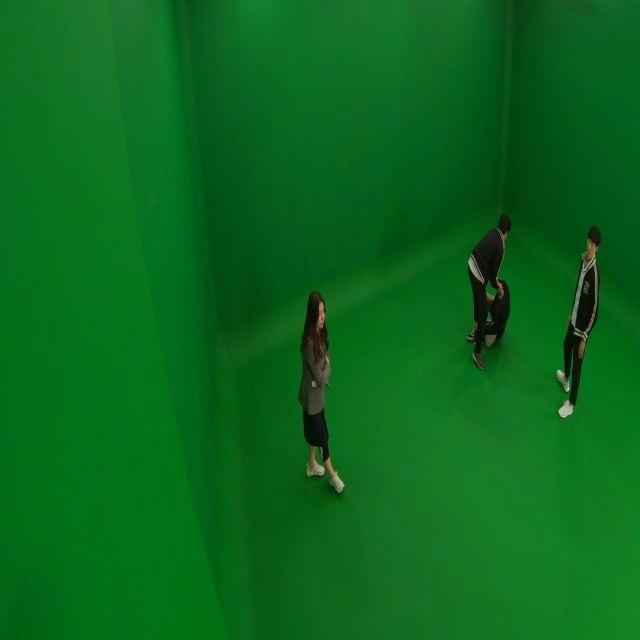fight: (464, 210, 512, 366)
non-fight: (295, 290, 342, 494), (557, 223, 600, 421)
